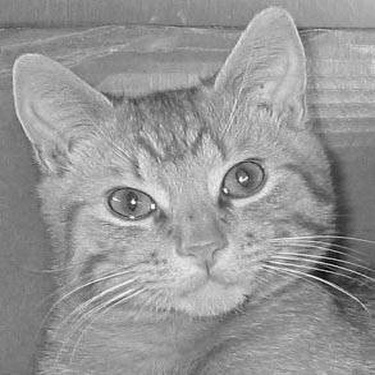cat: (1, 8, 367, 369)
